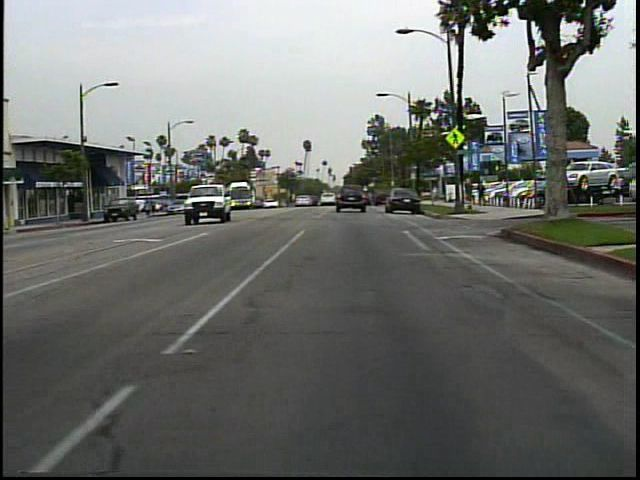person: (549, 175, 572, 222)
